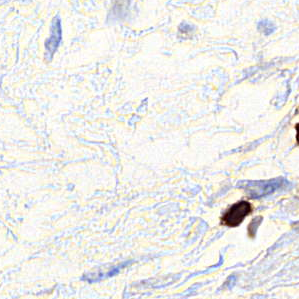Lymphocyte: (220, 200, 252, 227)
